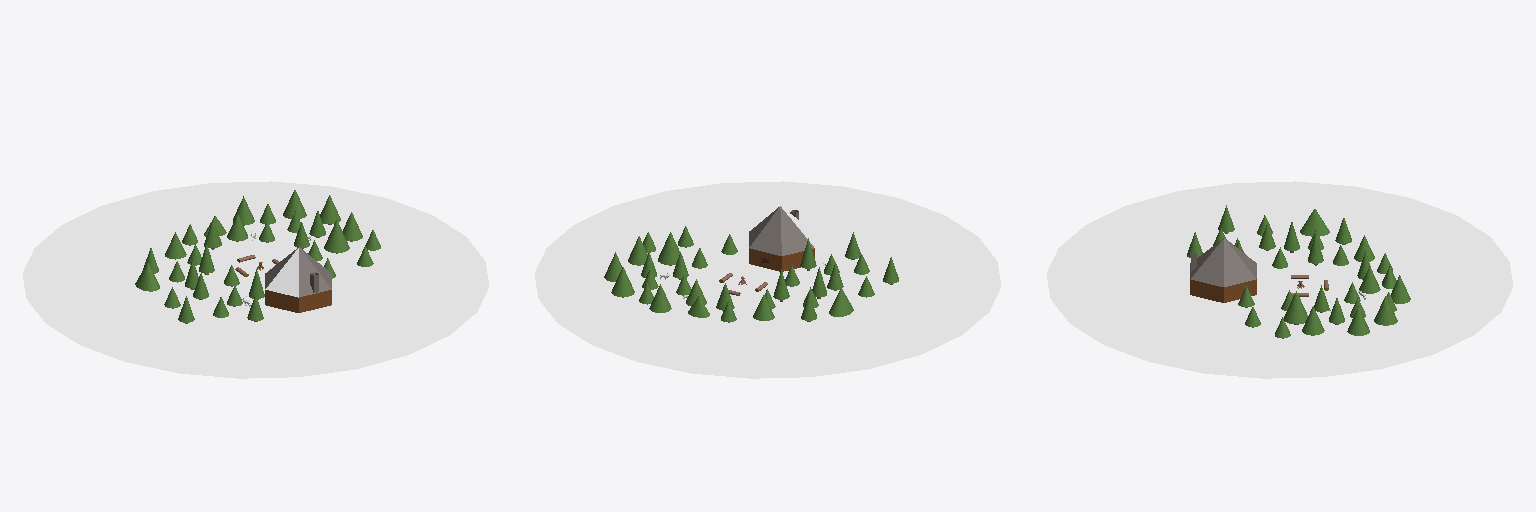
The model's file is ready_world.obj.
The picture shows the model from 3 angles: view 1: azimuth 30°, elevation 25°; view 2: azimuth 150°, elevation 25°; view 3: azimuth 270°, elevation 25°; orthographic projection.
Visible parts, largest first — view 1: Mesh121 Model, Mesh2 house1 Model; view 2: Mesh121 Model, Mesh2 house1 Model; view 3: Mesh121 Model, Mesh2 house1 Model.
Part boxes in pixels (left/top/right/bottom): Mesh121 Model: left=23, top=181, right=488, bottom=378; Mesh2 house1 Model: left=265, top=247, right=331, bottom=312; Mesh121 Model: left=535, top=181, right=1000, bottom=378; Mesh2 house1 Model: left=749, top=206, right=814, bottom=271; Mesh121 Model: left=1047, top=181, right=1512, bottom=378; Mesh2 house1 Model: left=1190, top=238, right=1256, bottom=302.
Bounding box in the file's own units: 92.61 × 11.35 × 92.61.